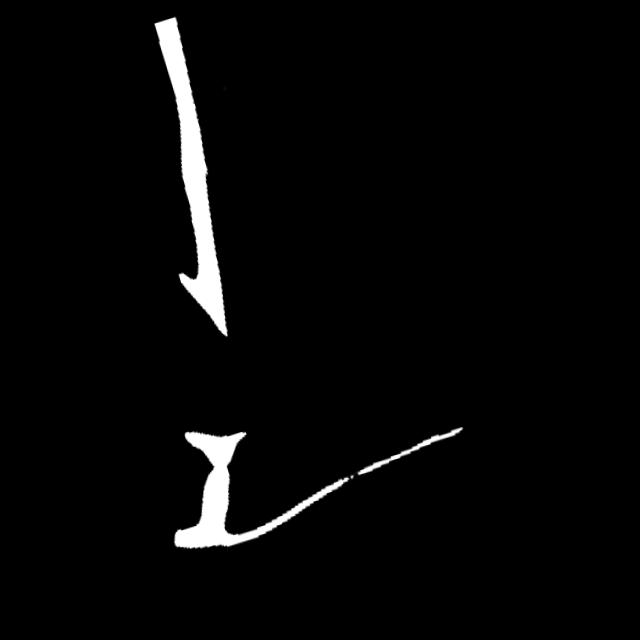inf: (333, 464, 366, 495)
